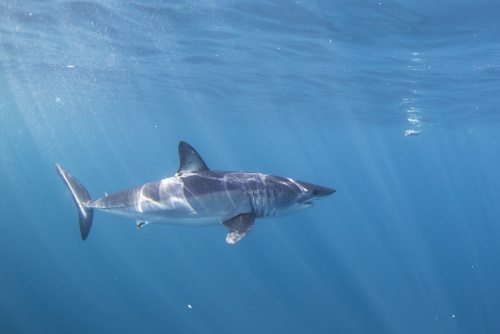Mako: (47, 138, 353, 253)
